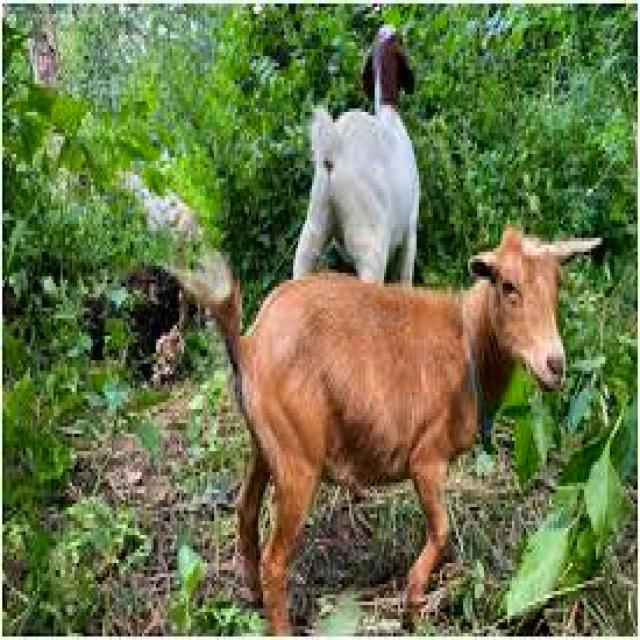goat: (179, 227, 598, 630), (293, 24, 419, 280)
